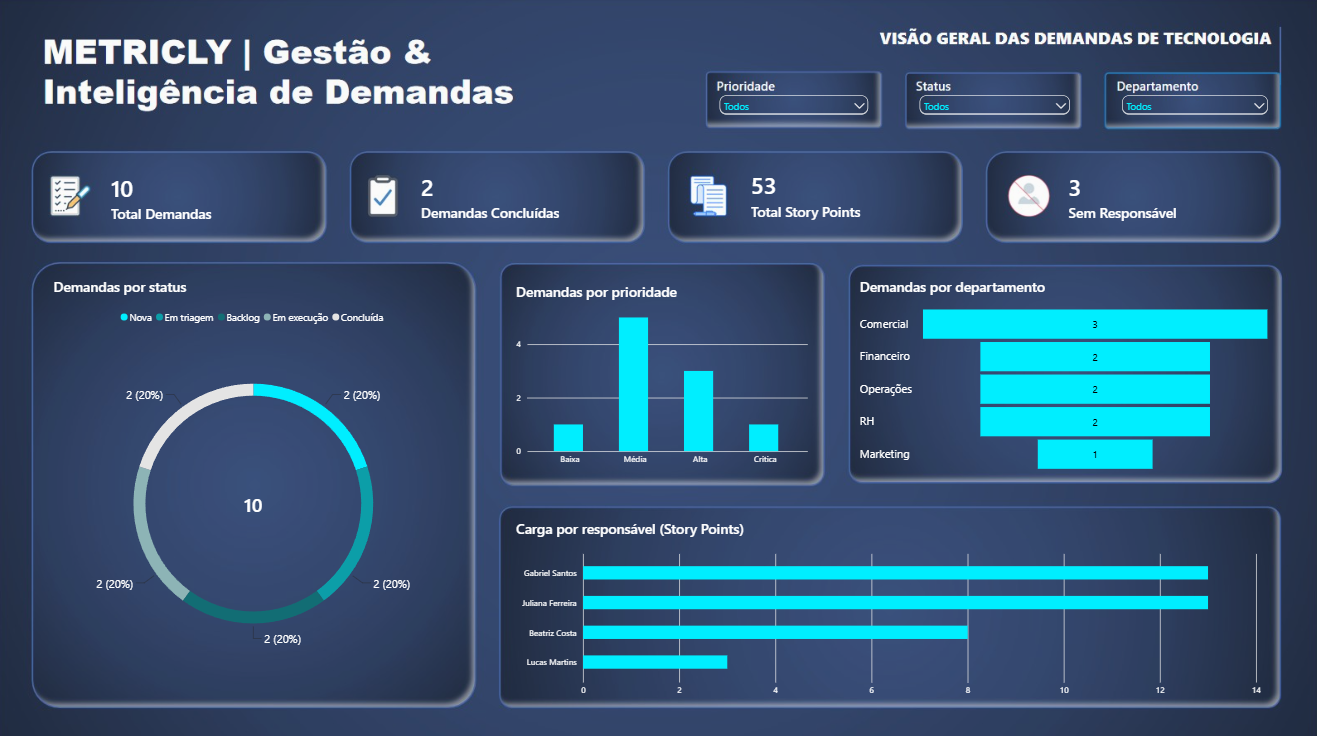

The page's visual inventory and layout, read from the dashboard file:
{"tool":"powerbi","page":{"name":"Página 1","canvas":[1920,1080],"ordinal":0},"visuals":[{"type":"cardVisual","fields":{"Data":["metricly_dataset.Total Demandas"]},"box":[151.6,240.6,323.4,98.4],"z":0},{"type":"cardVisual","fields":{"Data":["metricly_dataset.Demandas Concluídas"]},"box":[600,239.1,350,98.4],"z":1000},{"type":"cardVisual","fields":{"Data":["metricly_dataset.Total Story Points"]},"box":[1078.1,237.5,312.5,98.4],"z":2000},{"type":"cardVisual","fields":{"Data":["metricly_dataset.Sem Responsável"]},"box":[1539.1,239.1,337.5,98.4],"z":3000},{"type":"donutChart","title":"Demandas por status","fields":{"Category":["metricly_dataset.status"],"Y":["CountNonNull(metricly_dataset.id_demanda)"]},"box":[68.8,391.7,610.4,614.6],"z":4000},{"type":"clusteredColumnChart","title":"Demandas por prioridade","fields":{"Category":["metricly_dataset.prioridade"],"Y":["CountNonNull(metricly_dataset.id_demanda)"]},"box":[737.5,397.9,454.2,300],"z":5000},{"type":"funnel","title":"Demandas por departamento","fields":{"Category":["metricly_dataset.departamento"],"Y":["CountNonNull(metricly_dataset.id_demanda)"]},"box":[1235.4,391.7,627.1,312.5],"z":6000},{"type":"clusteredBarChart","title":"Carga por responsável (Story Points)","fields":{"Category":["metricly_dataset.responsavel"],"Y":["Sum(metricly_dataset.story_points)"]},"box":[737.5,741.7,1110.4,289.6],"z":7000},{"type":"slicer","fields":{"Values":["metricly_dataset.status"]},"box":[1333.3,137.5,227.1,41.7],"z":8000},{"type":"slicer","fields":{"Values":["metricly_dataset.prioridade"]},"box":[1043.8,137.5,225,42.2],"z":9000},{"type":"slicer","fields":{"Values":["metricly_dataset.departamento"]},"box":[1627.1,137.5,220.8,41.7],"z":10000}]}

Visuals, with their boxes in screenshot pixels (x1, y1, x2, y2), scaled from the page's 1920x1080 canvas onto the 1317x736 screenshot:
cardVisual - metricly_dataset.Total Demandas: region(104, 164, 326, 231)
cardVisual - metricly_dataset.Demandas Concluídas: region(412, 163, 652, 230)
cardVisual - metricly_dataset.Total Story Points: region(740, 162, 954, 229)
cardVisual - metricly_dataset.Sem Responsável: region(1056, 163, 1287, 230)
"Demandas por status" donutChart: region(47, 267, 466, 686)
"Demandas por prioridade" clusteredColumnChart: region(506, 271, 817, 476)
"Demandas por departamento" funnel: region(847, 267, 1278, 480)
"Carga por responsável (Story Points)" clusteredBarChart: region(506, 505, 1268, 703)
slicer - metricly_dataset.status: region(915, 94, 1070, 122)
slicer - metricly_dataset.prioridade: region(716, 94, 870, 122)
slicer - metricly_dataset.departamento: region(1116, 94, 1268, 122)
